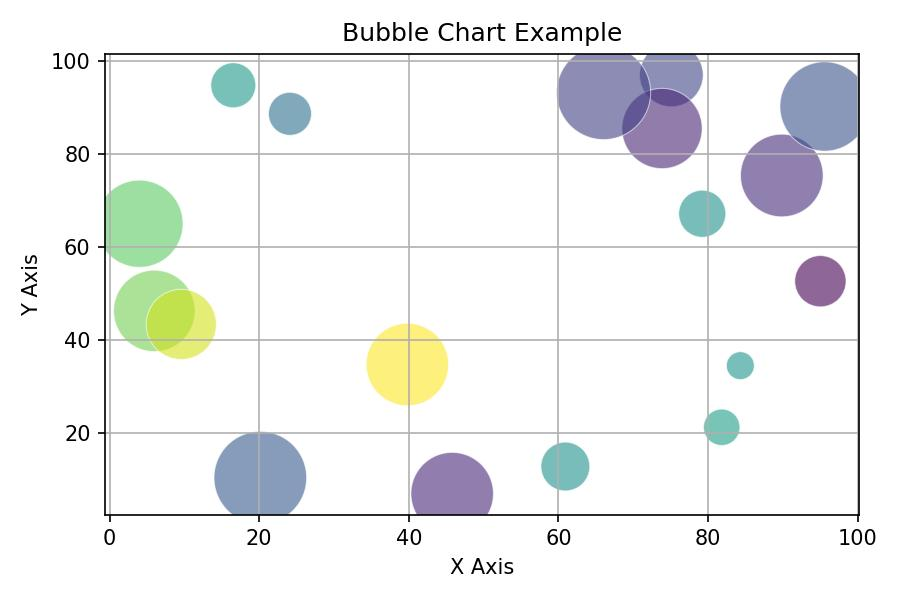axis: (90, 498, 881, 557), (51, 35, 120, 550)
circle: (557, 53, 653, 138), (215, 428, 311, 513), (779, 59, 861, 152), (739, 135, 824, 214), (107, 179, 184, 264), (365, 323, 447, 401), (115, 268, 194, 348), (624, 91, 701, 168), (411, 451, 494, 515), (147, 293, 219, 358), (639, 53, 704, 103), (795, 255, 848, 305), (541, 442, 593, 491), (678, 190, 726, 236), (210, 64, 256, 108), (267, 91, 313, 133), (704, 408, 741, 447), (725, 349, 757, 379)
